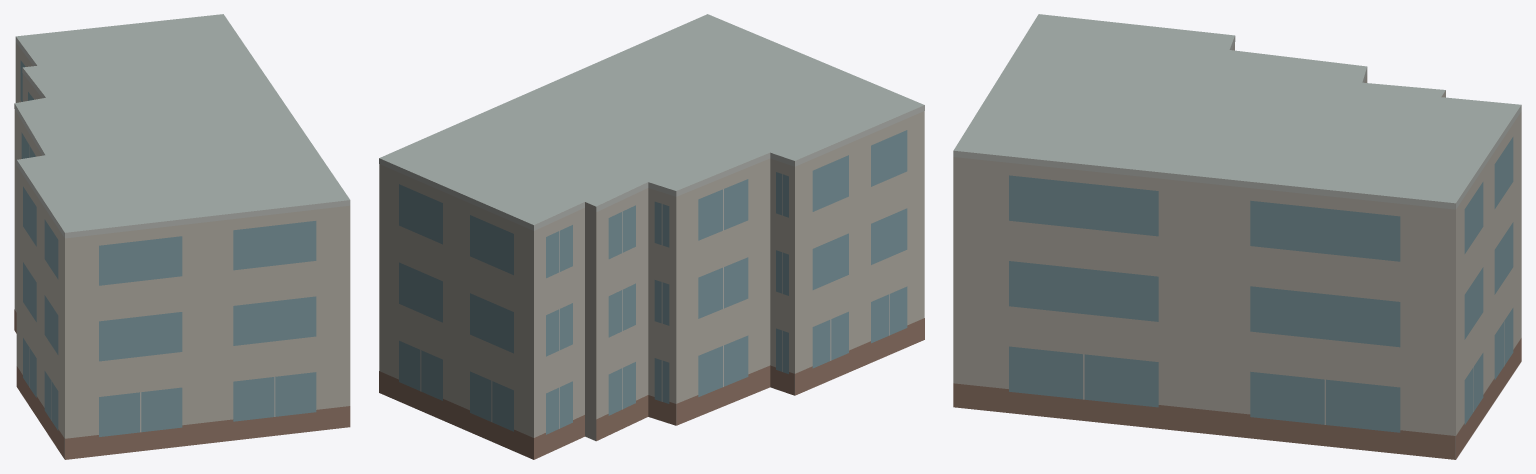
Rendered from survey-upis-32620071.glb.
3 renders of one model, left to right at view 1: azimuth 30°, elevation 25°; view 2: azimuth 150°, elevation 25°; view 3: azimuth 270°, elevation 25°, orthographic. The views are drawn at different scales.
Visible parts, largest first — view 1: survey-upis-32620071.tmp; view 2: survey-upis-32620071.tmp; view 3: survey-upis-32620071.tmp.
Part boxes in pixels (x1=…): survey-upis-32620071.tmp: x1=14, y1=14, x2=350, y2=459; survey-upis-32620071.tmp: x1=379, y1=14, x2=924, y2=459; survey-upis-32620071.tmp: x1=953, y1=14, x2=1521, y2=459.
Size of the model in its own units: 15.68 by 9.9 by 19.88.
